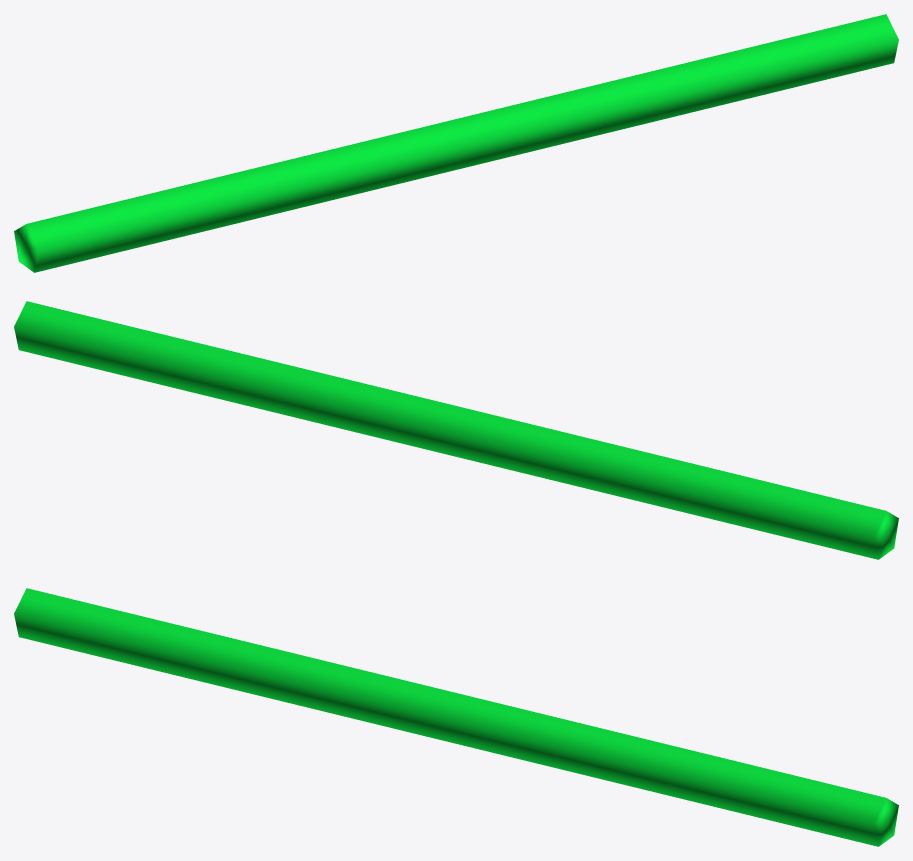
Rendered from Pipe_Metal_B.fbx.
3 renders of one model, top to bottom at view 1: azimuth 30°, elevation 25°; view 2: azimuth 150°, elevation 25°; view 3: azimuth 330°, elevation 25°, orthographic.
Visible parts, largest first — view 1: Pipe_Metal_B; view 2: Pipe_Metal_B; view 3: Pipe_Metal_B.
Part boxes in pixels (x1,y1,x2,y2): Pipe_Metal_B: [14, 14, 898, 272]; Pipe_Metal_B: [14, 301, 898, 559]; Pipe_Metal_B: [14, 588, 898, 846].
Size of the model in its own units: 4.21 by 0.2028 by 0.2133.
